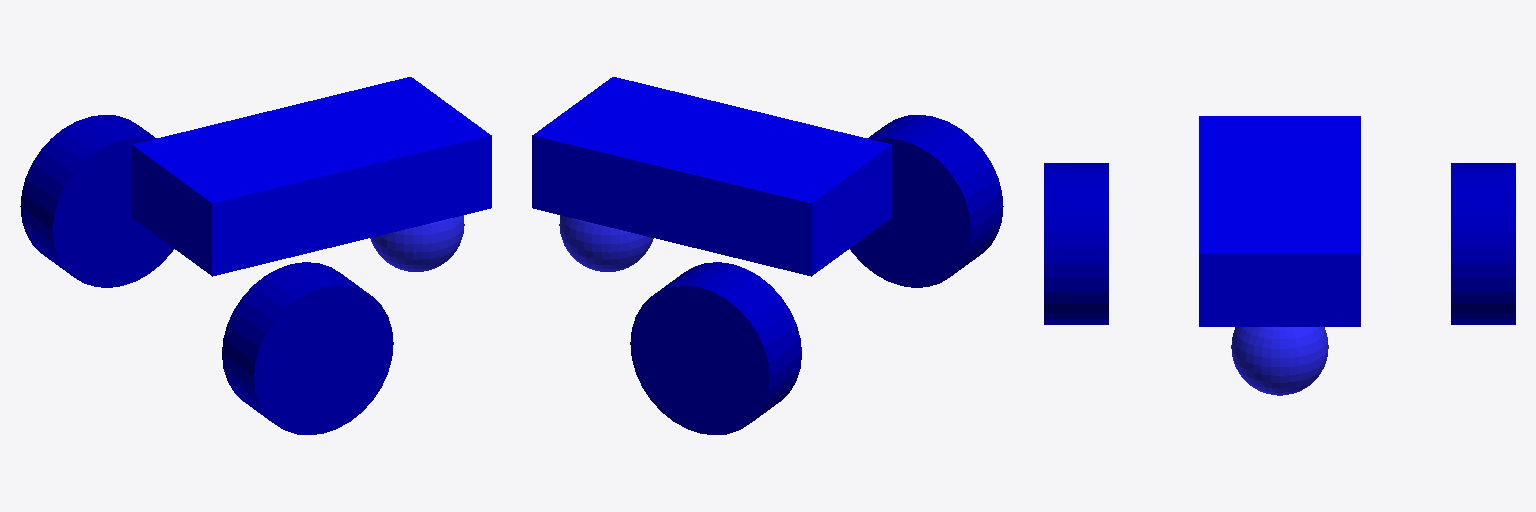
The robot description file, URDF, robot "simple_robot":
<?xml version="1.0"?>
<robot name="simple_robot">

  <!-- 底盘 -->
  <link name="base_link">
    <visual>
      <origin xyz="0 0 0.1"/>
      <geometry><box size="0.4 0.2 0.1"/></geometry>
      <material name="blue"><color rgba="0 0 1 1"/></material>
    </visual>
    <collision>
      <origin xyz="0 0 0.1"/>
      <geometry><box size="0.38 0.18 0.09"/></geometry>
    </collision>
    <inertial>
      <mass value="0.5"/>
      <inertia ixx="0.01" ixy="0.0" ixz="0.0" iyy="0.01" iyz="0.0" izz="0.01"/>
    </inertial>
  </link>

  <!-- 左轮 -->
  <link name="wheel_left_link">
    <visual>
      <origin xyz="0 0 0" rpy="1.5708 0 0"/>
      <geometry><cylinder radius="0.1" length="0.08"/></geometry>
      <material name="dark_blue"><color rgba="0 0 0.8 1"/></material>
    </visual>
    <collision>
      <origin xyz="0 0 0" rpy="1.5708 0 0"/>
      <geometry><cylinder radius="0.095" length="0.07"/></geometry>
    </collision>
    <inertial>
      <mass value="0.05"/>
      <inertia ixx="0.0001" ixy="0.0" ixz="0.0" iyy="0.0001" iyz="0.0" izz="0.0001"/>
    </inertial>
  </link>
  <joint name="wheel_left_joint" type="continuous">
    <parent link="base_link"/>
    <child link="wheel_left_link"/>
    <origin xyz="-0.15 -0.25 0"/>
    <axis xyz="0 1 0"/>
  </joint>

  <!-- 右轮 -->
  <link name="wheel_right_link">
    <visual>
      <origin xyz="0 0 0" rpy="1.5708 0 0"/>
      <geometry><cylinder radius="0.1" length="0.08"/></geometry>
      <material name="dark_blue"><color rgba="0 0 0.8 1"/></material>
    </visual>
    <collision>
      <origin xyz="0 0 0" rpy="1.5708 0 0"/>
      <geometry><cylinder radius="0.095" length="0.07"/></geometry>
    </collision>
    <inertial>
      <mass value="0.05"/>
      <inertia ixx="0.0001" ixy="0.0" ixz="0.0" iyy="0.0001" iyz="0.0" izz="0.0001"/>
    </inertial>
  </link>
  <joint name="wheel_right_joint" type="continuous">
    <parent link="base_link"/>
    <child link="wheel_right_link"/>
    <origin xyz="-0.15 0.25 0"/>
    <axis xyz="0 1 0"/>
  </joint>

  <!-- 万向轮 -->
  <link name="caster_link">
    <visual>
      <geometry><sphere radius="0.06"/></geometry>
      <material name="light_blue"><color rgba="0.2 0.2 1 1"/></material>
    </visual>
    <collision>
      <geometry><sphere radius="0.055"/></geometry>
    </collision>
    <inertial>
      <mass value="0.02"/>
      <inertia ixx="0.00001" ixy="0" ixz="0" iyy="0.00001" iyz="0" izz="0.00001"/>
    </inertial>
  </link>
  <joint name="caster_joint" type="fixed">
    <parent link="base_link"/>
    <child link="caster_link"/>
    <origin xyz="0.15 0 0"/>
  </joint>

  <!-- ########################### -->
  <!-- 关键：删除所有锁死、限制、边界 -->
  <!-- ########################### -->
  <gazebo reference="base_link">
    <maxContacts>0</maxContacts>
    <minDepth>0</minDepth>
  </gazebo>

  <gazebo reference="wheel_left_link">
    <mu1>0.1</mu1>
    <mu2>0.1</mu2>
    <friction>0.0</friction>
    <rolling_friction>0.0</rolling_friction>
  </gazebo>

  <gazebo reference="wheel_right_link">
    <mu1>0.1</mu1>
    <mu2>0.1</mu2>
    <friction>0.0</friction>
    <rolling_friction>0.0</rolling_friction>
  </gazebo>

  <gazebo reference="caster_link">
    <mu1>0.0</mu1>
    <mu2>0.0</mu2>
    <friction>0.0</friction>
    <rolling_friction>0.0</rolling_friction>
  </gazebo>

  <!-- 驱动：无锁、无边界、无限制、自由移动 -->
  <gazebo>
    <plugin name="differential_drive_controller" filename="libgazebo_ros_diff_drive.so">
      <alwaysOn>true</alwaysOn>
      <leftJoint>wheel_left_joint</leftJoint>
      <rightJoint>wheel_right_joint</rightJoint>
      <wheelSeparation>0.5</wheelSeparation>
      <wheelDiameter>0.2</wheelDiameter>
      <torque>100</torque>
      <maxSpeed>10</maxSpeed>
      <angularMaxSpeed>10</angularMaxSpeed>
      <commandTopic>cmd_vel</commandTopic>
      <odometryTopic>odom</odometryTopic>
      <odometryFrame>odom</odometryFrame>
      <robotBaseFrame>base_link</robotBaseFrame>
    </plugin>
  </gazebo>

</robot>

--- What the picture shows (computed from the rendered views, not written in the file) ---
3 views of the same robot in one strip: view 1: azimuth 30°, elevation 25°; view 2: azimuth 150°, elevation 25°; view 3: azimuth 270°, elevation 25° (orthographic).
Model simple_robot with 4 links and 3 joints (2 continuous, 1 fixed), rooted at base_link, posed every joint at zero.
Links seen in each view (by area): view 1: base_link, wheel_left_link, wheel_right_link, caster_link; view 2: base_link, wheel_right_link, wheel_left_link, caster_link; view 3: base_link, wheel_left_link, wheel_right_link, caster_link.
Boxes of the visible links, box(x1,y1,x2,y2) form: base_link: box(132, 77, 491, 276); wheel_left_link: box(222, 262, 393, 434); wheel_right_link: box(20, 115, 173, 287); caster_link: box(370, 215, 464, 271); base_link: box(532, 77, 891, 276); wheel_right_link: box(630, 262, 801, 434); wheel_left_link: box(850, 115, 1003, 287); caster_link: box(559, 215, 653, 271); base_link: box(1199, 116, 1360, 326); wheel_left_link: box(1044, 163, 1108, 324); wheel_right_link: box(1451, 163, 1515, 324); caster_link: box(1231, 327, 1328, 395).
Size in the robot's own frame: 0.46 by 0.58 by 0.25 metres.
Geometry: primitives only (box / cylinder / sphere), no mesh files.
